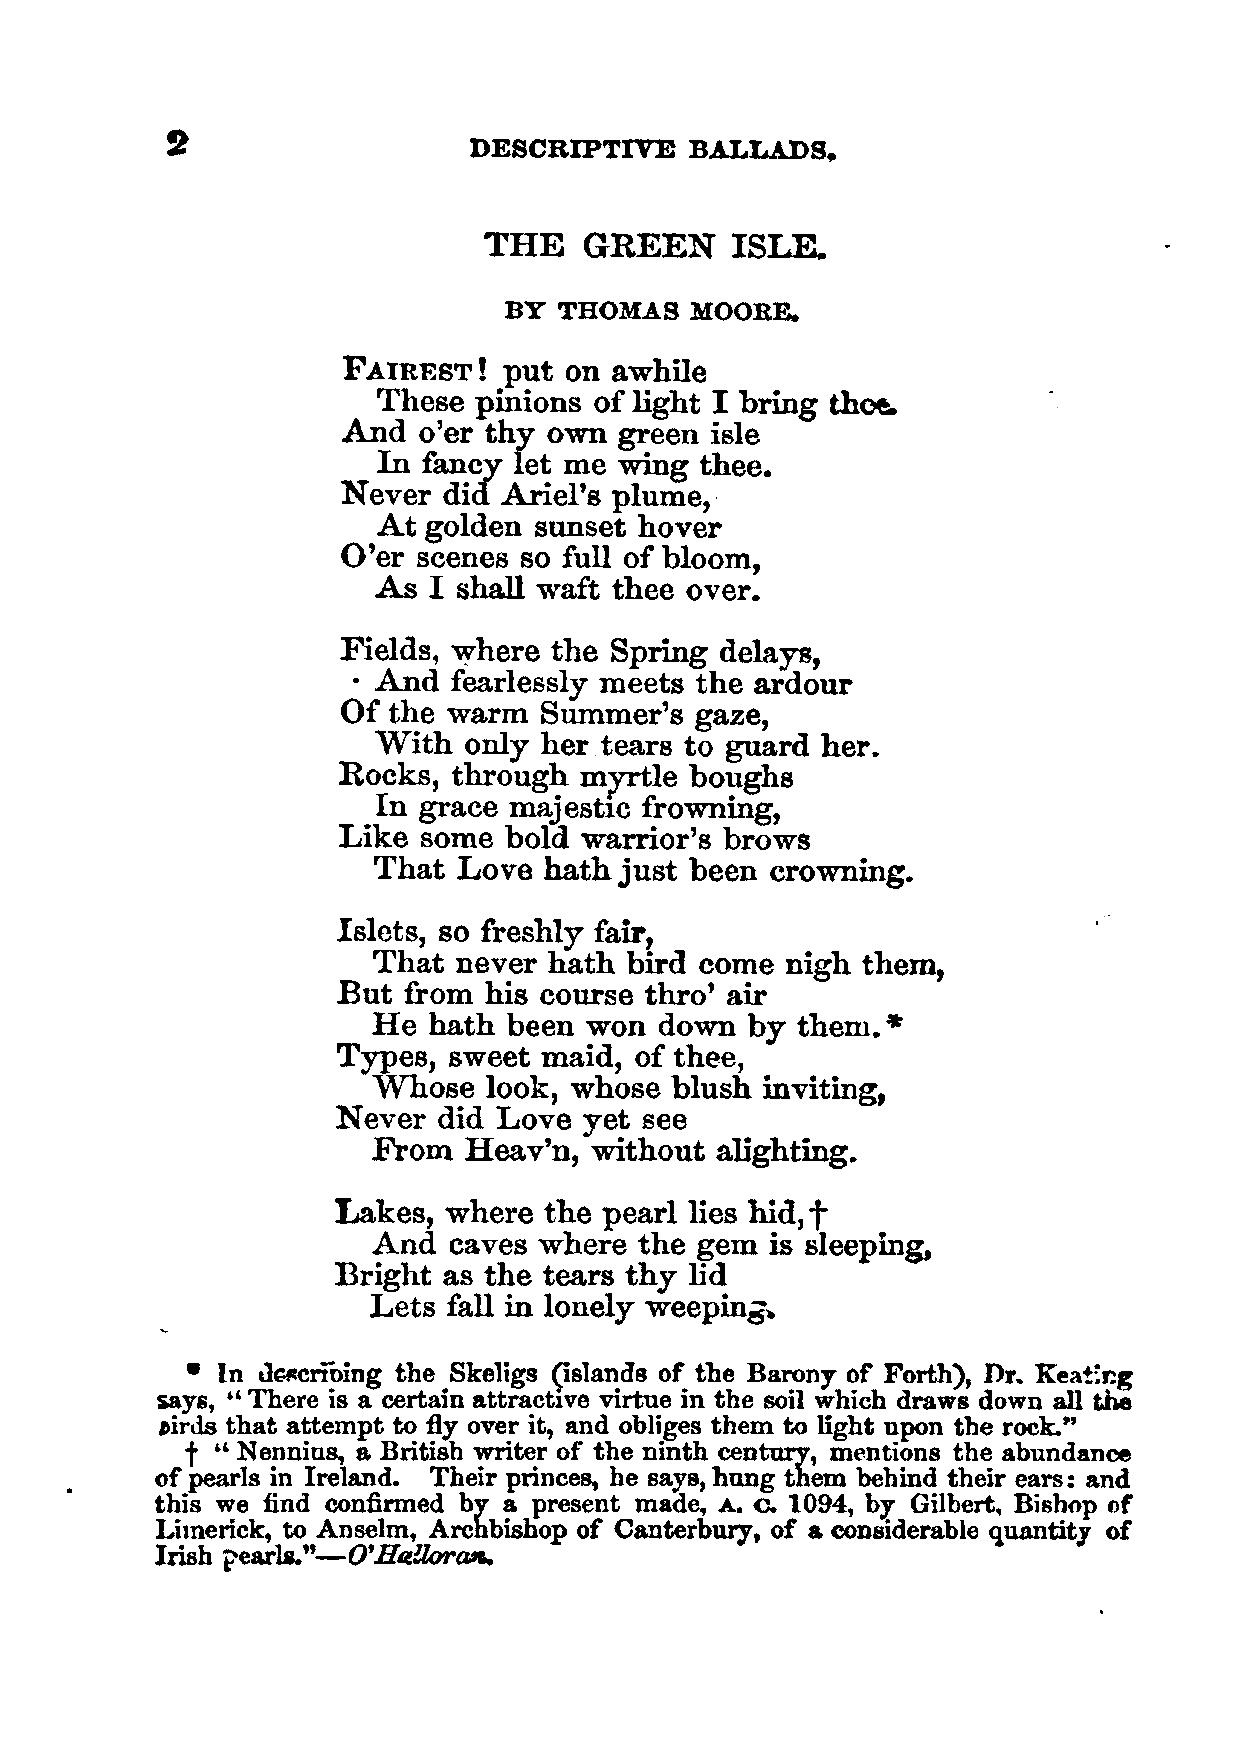content: (323, 209, 946, 1337), (152, 1355, 1134, 1571)
content_chapter: (464, 129, 833, 165)
content_pagenumber: (160, 114, 191, 160)
